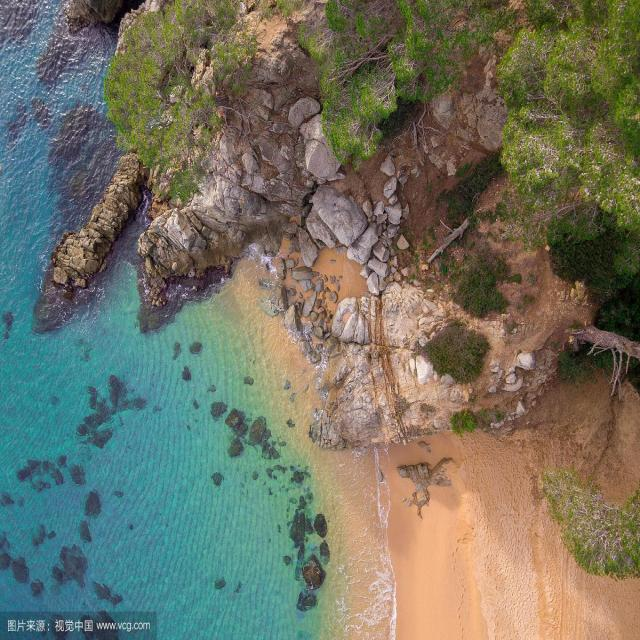reef: (14, 141, 166, 306), (10, 0, 111, 87), (22, 458, 88, 526), (70, 364, 122, 444), (198, 388, 262, 449), (51, 536, 92, 592)
